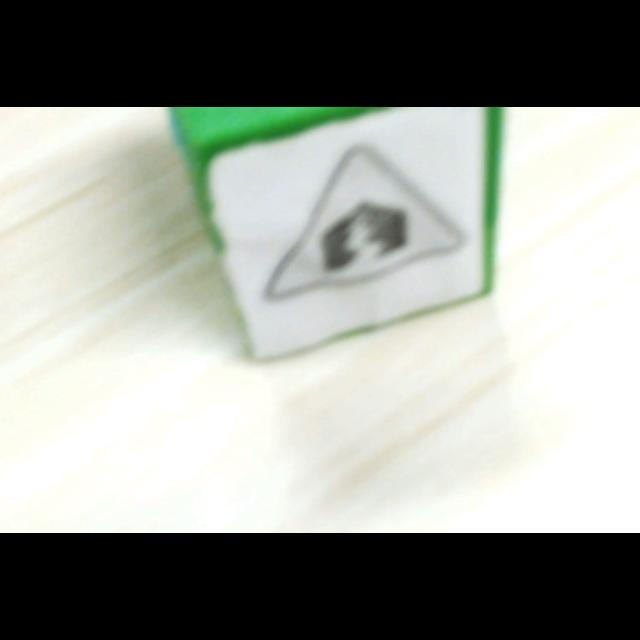Earthquake: (263, 146, 461, 305)
